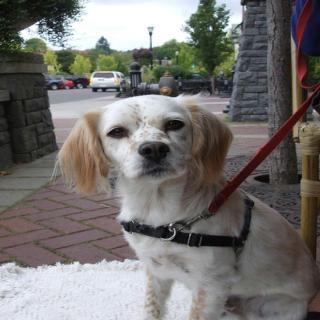dog: (53, 94, 252, 199)
nose: (138, 140, 170, 163)
